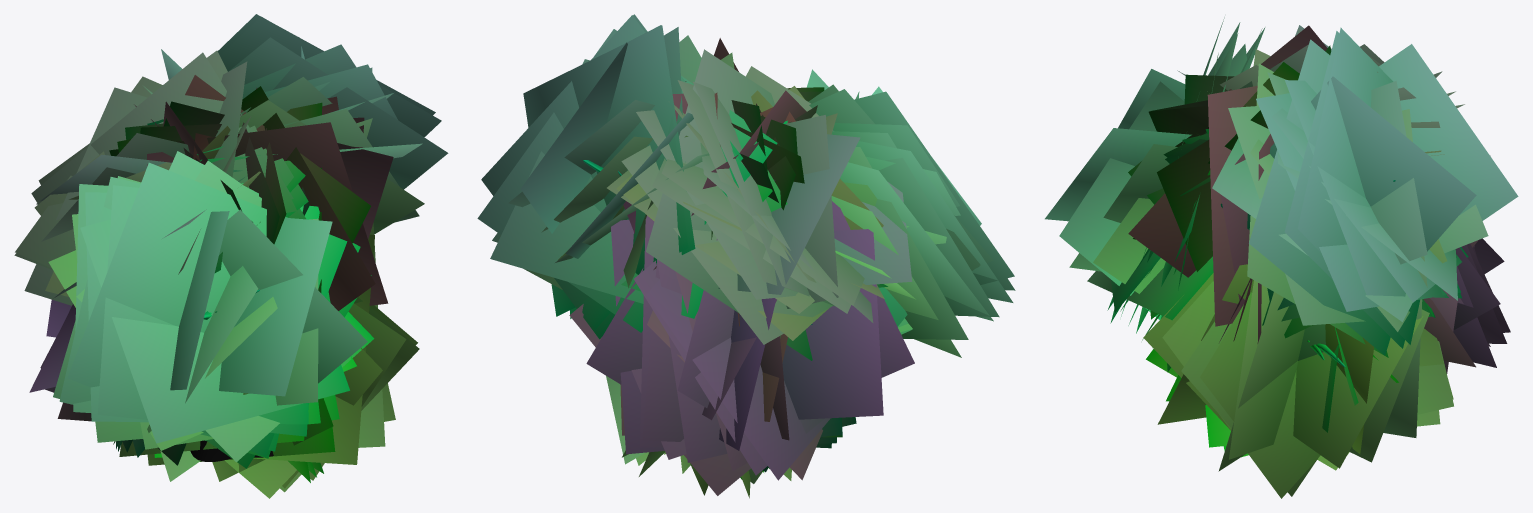
Rendered from Arbusto1.fbx.
The picture shows the model from 3 angles, left to right: view 1: azimuth 30°, elevation 25°; view 2: azimuth 150°, elevation 25°; view 3: azimuth 270°, elevation 25°; orthographic projection.
Parts seen in each view (by area): view 1: Tree_1, Tree_0; view 2: Tree_1; view 3: Tree_1.
Boxes of the visible parts, x1,y1,x2,y2 form: Tree_1: (14, 14, 448, 498); Tree_0: (190, 289, 273, 461); Tree_1: (477, 14, 1015, 498); Tree_1: (1045, 17, 1518, 498).
Size of the model in its own units: 110 by 110 by 101.
